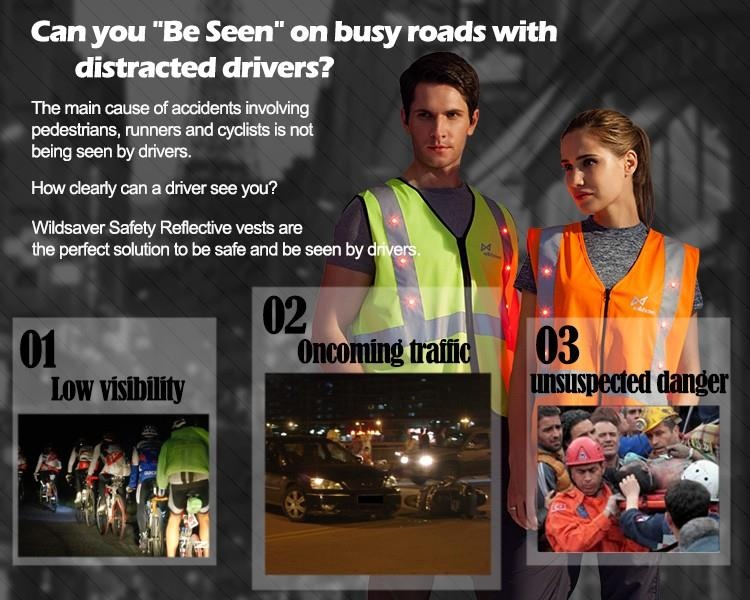helmet: (638, 406, 678, 431)
person with partial safety: (345, 58, 519, 406), (528, 108, 694, 404)
person without safety: (551, 439, 647, 552), (159, 422, 211, 519), (129, 428, 159, 515), (91, 437, 132, 500), (60, 445, 94, 501), (32, 449, 62, 491)
safety vest: (356, 187, 520, 417), (531, 219, 695, 404)
